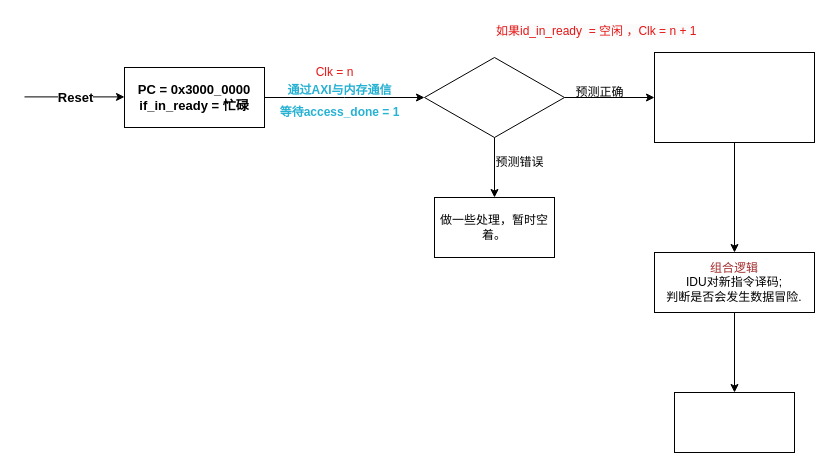
Image size: 832x470. Some labels were removed from this diagram. The centre of each missing label's shape, as x and y in pixels:
"if ( id_in_ready = 空闲) { if_in_ready = 空闲 if_out_valid = 1 if_out_bits = 新值 }" belongs at point 734,97.
"判断是否预测错误" belongs at point 494,97.
